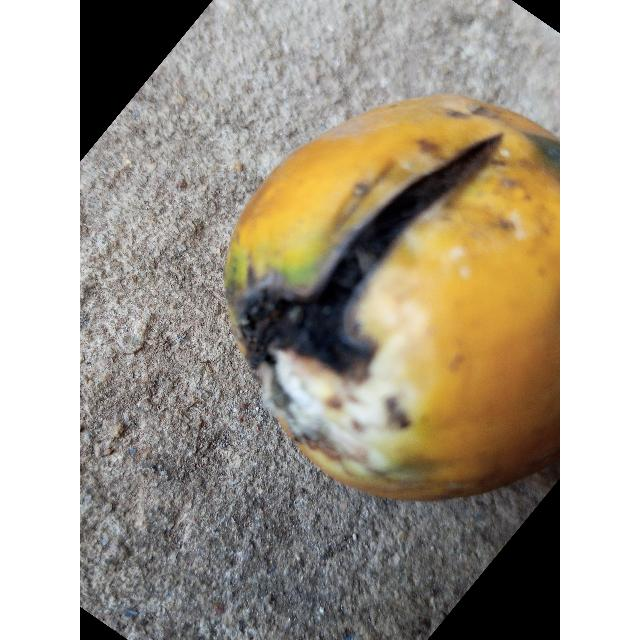damaged: (224, 94, 560, 504)
